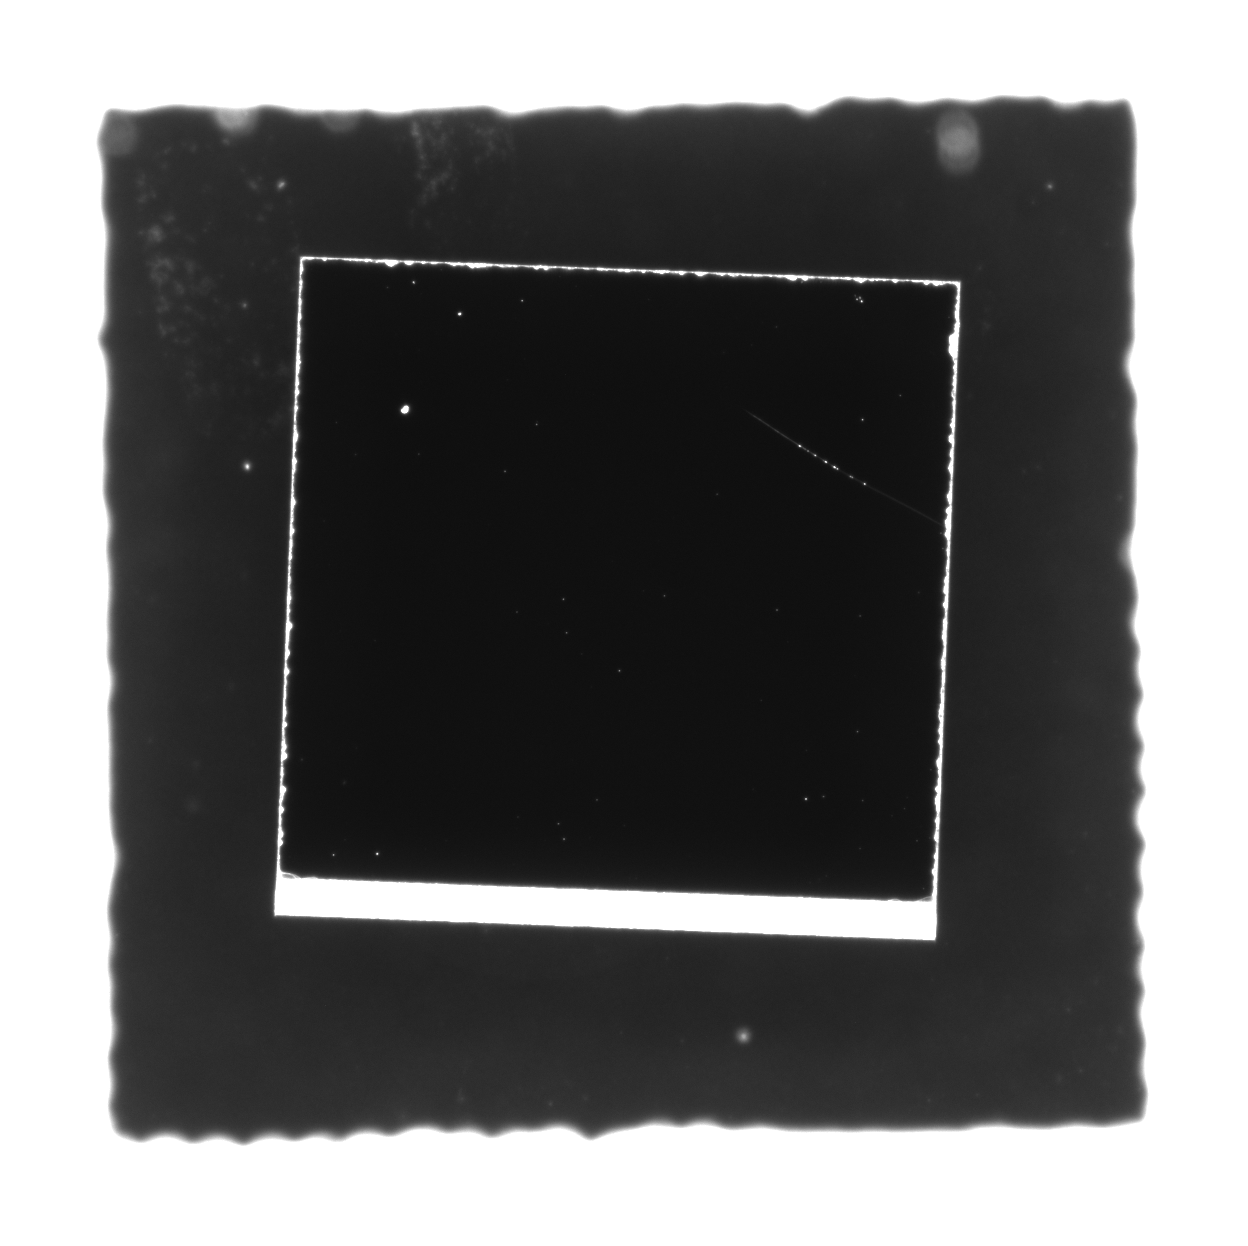dot: (395, 396, 410, 419), (453, 302, 465, 319)
edge_bottom: (270, 868, 946, 950)
light_scratch: (746, 407, 874, 489)
